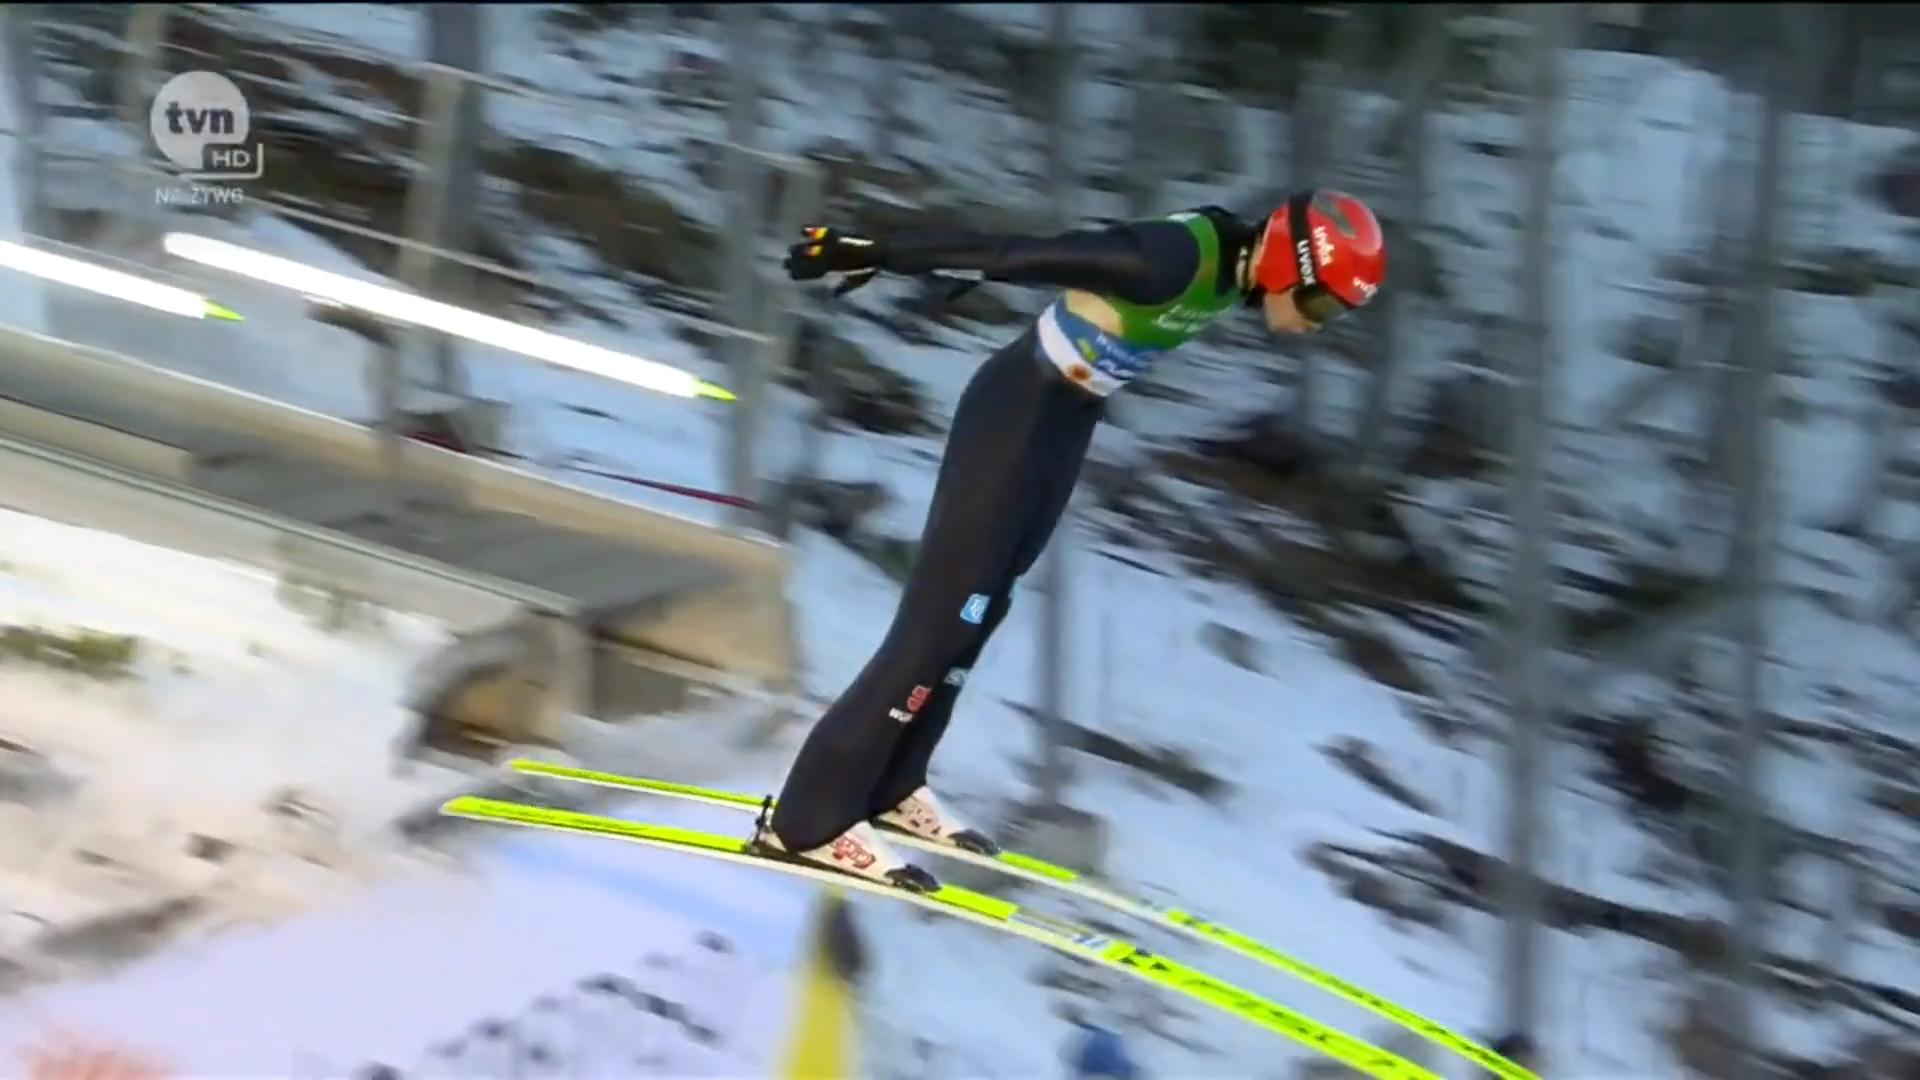prog: (456, 570, 738, 669)
